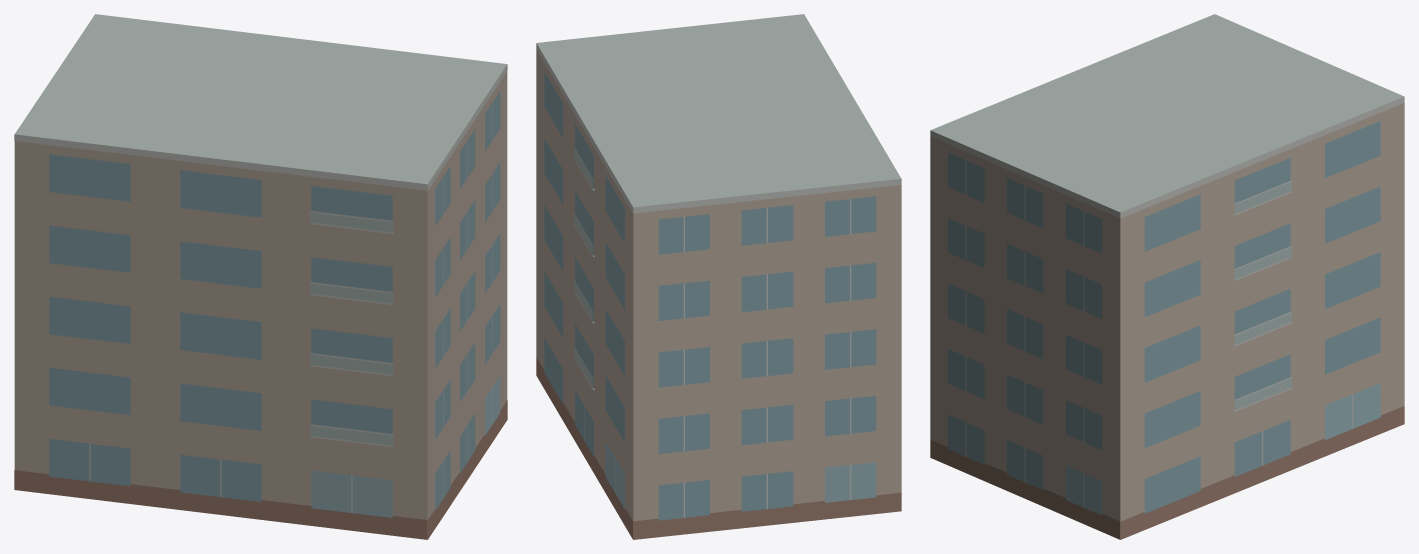
File: survey-upis-32885043.glb
The picture shows the model from 3 angles, left to right: view 1: azimuth 30°, elevation 25°; view 2: azimuth 150°, elevation 25°; view 3: azimuth 270°, elevation 25°; orthographic projection. The views are drawn at different scales.
Parts seen in each view (by area): view 1: survey-upis-32885043.tmp; view 2: survey-upis-32885043.tmp; view 3: survey-upis-32885043.tmp.
Boxes of the visible parts, <box> form: survey-upis-32885043.tmp: <box>14,14,507,539</box>; survey-upis-32885043.tmp: <box>536,14,901,539</box>; survey-upis-32885043.tmp: <box>930,14,1404,539</box>.
Size of the model in its own units: 17.17 by 13.2 by 17.34.
